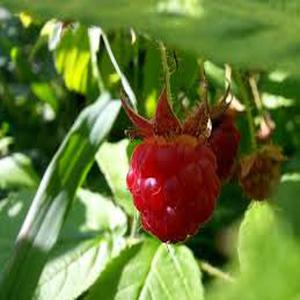raspb: (105, 124, 246, 243)
